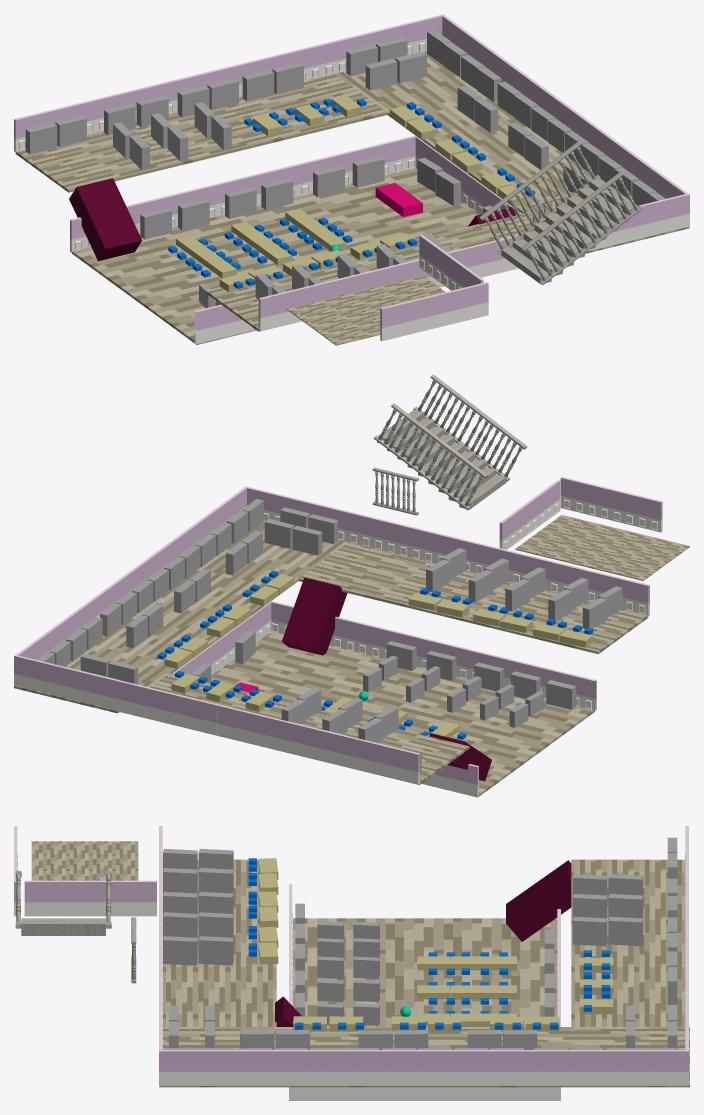
Rendered from stage2.fbx.
The picture shows the model from 3 angles, top to bottom: view 1: azimuth 30°, elevation 25°; view 2: azimuth 150°, elevation 25°; view 3: azimuth 270°, elevation 25°; orthographic projection. The views are drawn at different scales.
Visible parts, largest first — view 1: interior_setimage1, stage2floor1, stage2floor2_1, stage2_Stairs, stage2floor12_2, stage2wall2_1, stage2wall2_3, stage2wall1_2, stage2wall2_2, stage2floor_sample, stage2floor2_3, stage2wall_sample2 (+3 smaller); view 2: interior_setimage1, stage2floor1, stage2wall2_1, stage2floor12_2, stage2floor2_3, stage2wall2_3, stage2_Stairs, stage2floor_sample, stage2wall1_3, stage2wall2_2, stage2floor2_1, stage2wall_sample2 (+4 smaller); view 3: interior_setimage1, stage2wall2_2, stage2floor1, stage2floor2_1, stage2floor2_3, stage2floor12_2, stage2wall_sample, stage2floor_sample, stage2wall1_1, stage2_Stairs, stage2wall2_1, stage2wall2_3 (+2 smaller).
Part boxes in pixels (box(x1,y1,x2,y2)): interior_setimage1: box(25, 30, 665, 308); stage2floor1: box(72, 168, 479, 344); stage2floor2_1: box(15, 73, 387, 192); stage2_Stairs: box(479, 140, 642, 284); stage2floor12_2: box(335, 51, 689, 253); stage2wall2_1: box(14, 15, 442, 151); stage2wall2_3: box(258, 194, 687, 331); stage2wall1_2: box(70, 135, 416, 252); stage2wall2_2: box(441, 14, 689, 227); stage2floor_sample: box(286, 275, 445, 345); stage2floor2_3: box(205, 213, 536, 331); stage2wall_sample2: box(380, 282, 488, 341); interior_setimage1: box(37, 499, 622, 781); stage2floor1: box(211, 631, 595, 797); stage2wall2_1: box(16, 655, 419, 784); stage2floor12_2: box(14, 521, 347, 713); stage2floor2_3: box(298, 542, 648, 654); stage2wall2_3: box(247, 487, 649, 615); stage2_Stairs: box(374, 374, 527, 510); stage2floor_sample: box(515, 515, 689, 580); stage2wall1_3: box(270, 601, 596, 711); stage2wall2_2: box(14, 486, 247, 685); stage2floor2_1: box(123, 673, 469, 784); stage2wall_sample2: box(560, 477, 662, 532); interior_setimage1: box(163, 837, 677, 1049); stage2wall2_2: box(159, 1050, 688, 1085); stage2floor1: box(293, 918, 556, 1026); stage2floor2_1: box(571, 859, 684, 1026); stage2floor2_3: box(163, 859, 276, 1026); stage2floor12_2: box(159, 1027, 689, 1087); stage2wall_sample: box(24, 880, 156, 916); stage2floor_sample: box(31, 841, 138, 880); stage2wall1_1: box(292, 1087, 557, 1100); stage2_Stairs: box(15, 871, 111, 935); stage2wall2_1: box(685, 826, 688, 1049); stage2wall2_3: box(159, 826, 162, 1049).
Size of the model in its own units: 5416 by 2309 by 6809.
10 materials, 4 textured.
